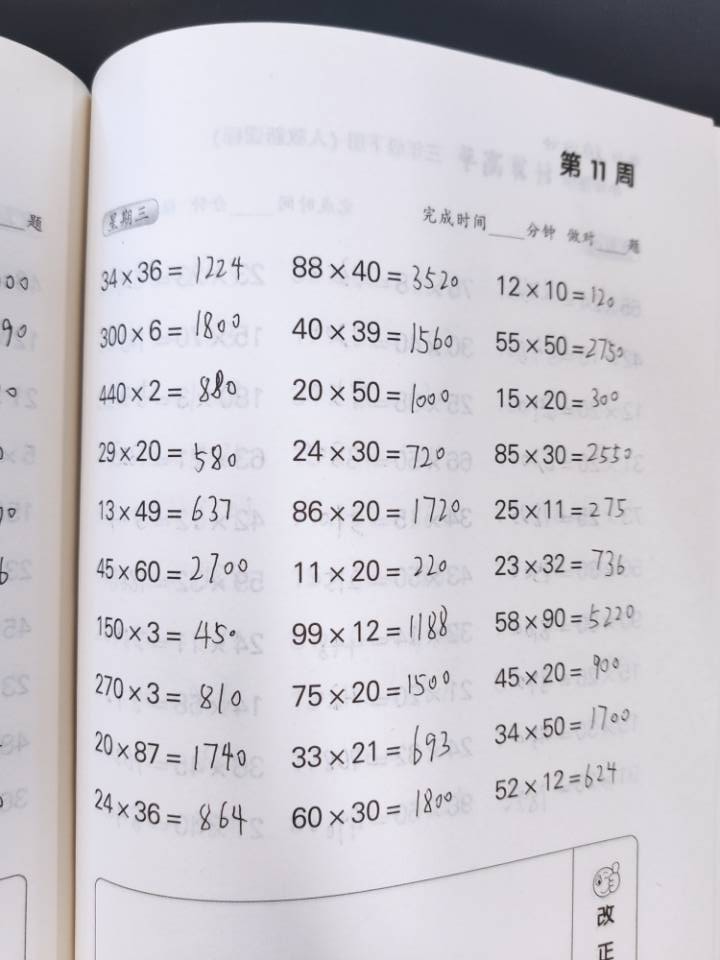equation: (358, 336, 405, 577), (177, 615, 226, 839), (191, 105, 240, 329), (177, 345, 226, 569), (319, 96, 368, 320), (224, 345, 273, 569), (449, 616, 498, 840), (404, 619, 453, 843), (357, 617, 406, 841), (316, 615, 365, 839), (267, 616, 316, 840), (223, 612, 272, 836), (401, 355, 450, 579), (481, 103, 530, 327), (522, 99, 571, 323), (565, 103, 614, 327), (537, 352, 586, 576), (491, 353, 540, 577), (497, 616, 546, 840), (538, 613, 587, 837), (278, 96, 326, 320), (236, 97, 284, 321), (400, 108, 448, 332), (362, 101, 410, 325), (274, 357, 322, 581), (440, 100, 488, 324), (584, 347, 632, 571), (446, 352, 494, 576), (316, 353, 364, 577), (584, 620, 632, 844)
